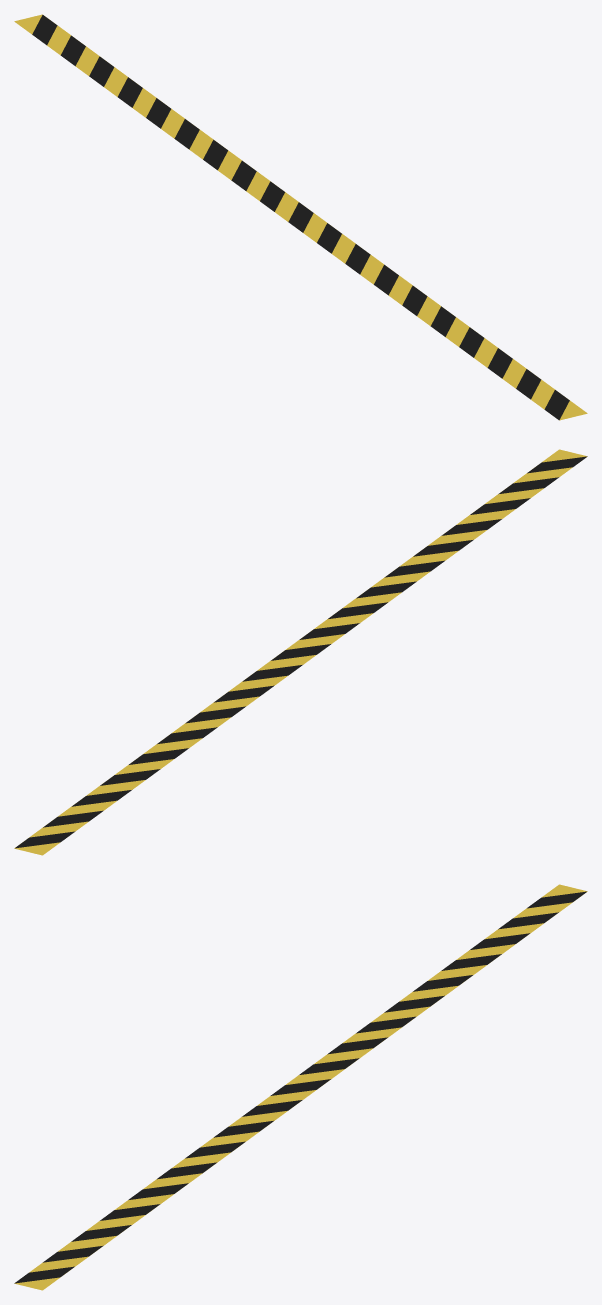
File: SM_CautionStrip_01.fbx
3 views of the same model, one above another, from view 1: azimuth 30°, elevation 25°; view 2: azimuth 150°, elevation 25°; view 3: azimuth 330°, elevation 25° (orthographic).
Parts seen in each view (by area): view 1: Caution_Strip; view 2: Caution_Strip; view 3: Caution_Strip.
Part boxes in pixels (x1,y1,x2,y2): Caution_Strip: [14, 14, 587, 420]; Caution_Strip: [14, 449, 587, 855]; Caution_Strip: [14, 884, 587, 1290].
Bounding box in the file's own units: 9.74 × 0.00491 × 321.
